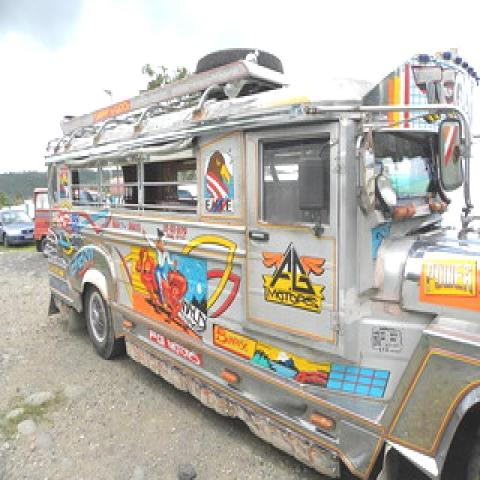car: (0, 200, 35, 248)
jeepney: (37, 59, 480, 480)
